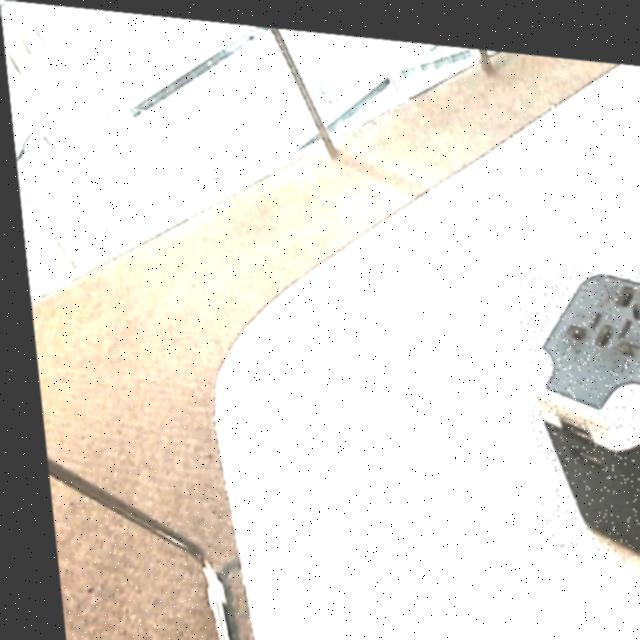adapter: (510, 246, 640, 547)
